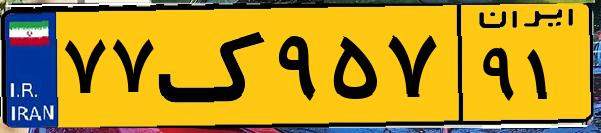1: (525, 38, 570, 115)
5: (330, 28, 385, 110)
7: (385, 28, 445, 110), (57, 26, 110, 100), (110, 28, 158, 98)
9: (270, 28, 330, 110), (475, 38, 525, 113)
ک: (158, 12, 270, 120)
